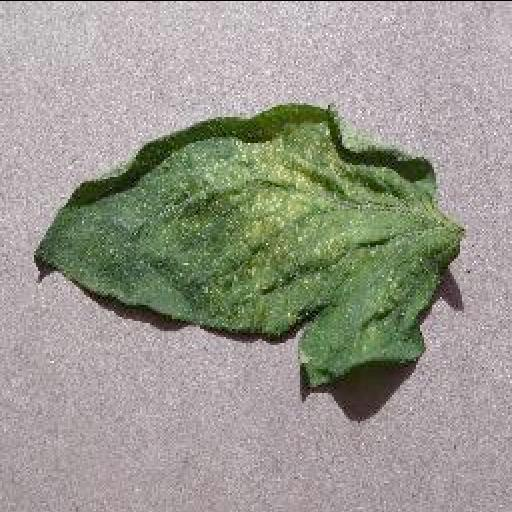disease_tomato: (36, 104, 464, 386)
